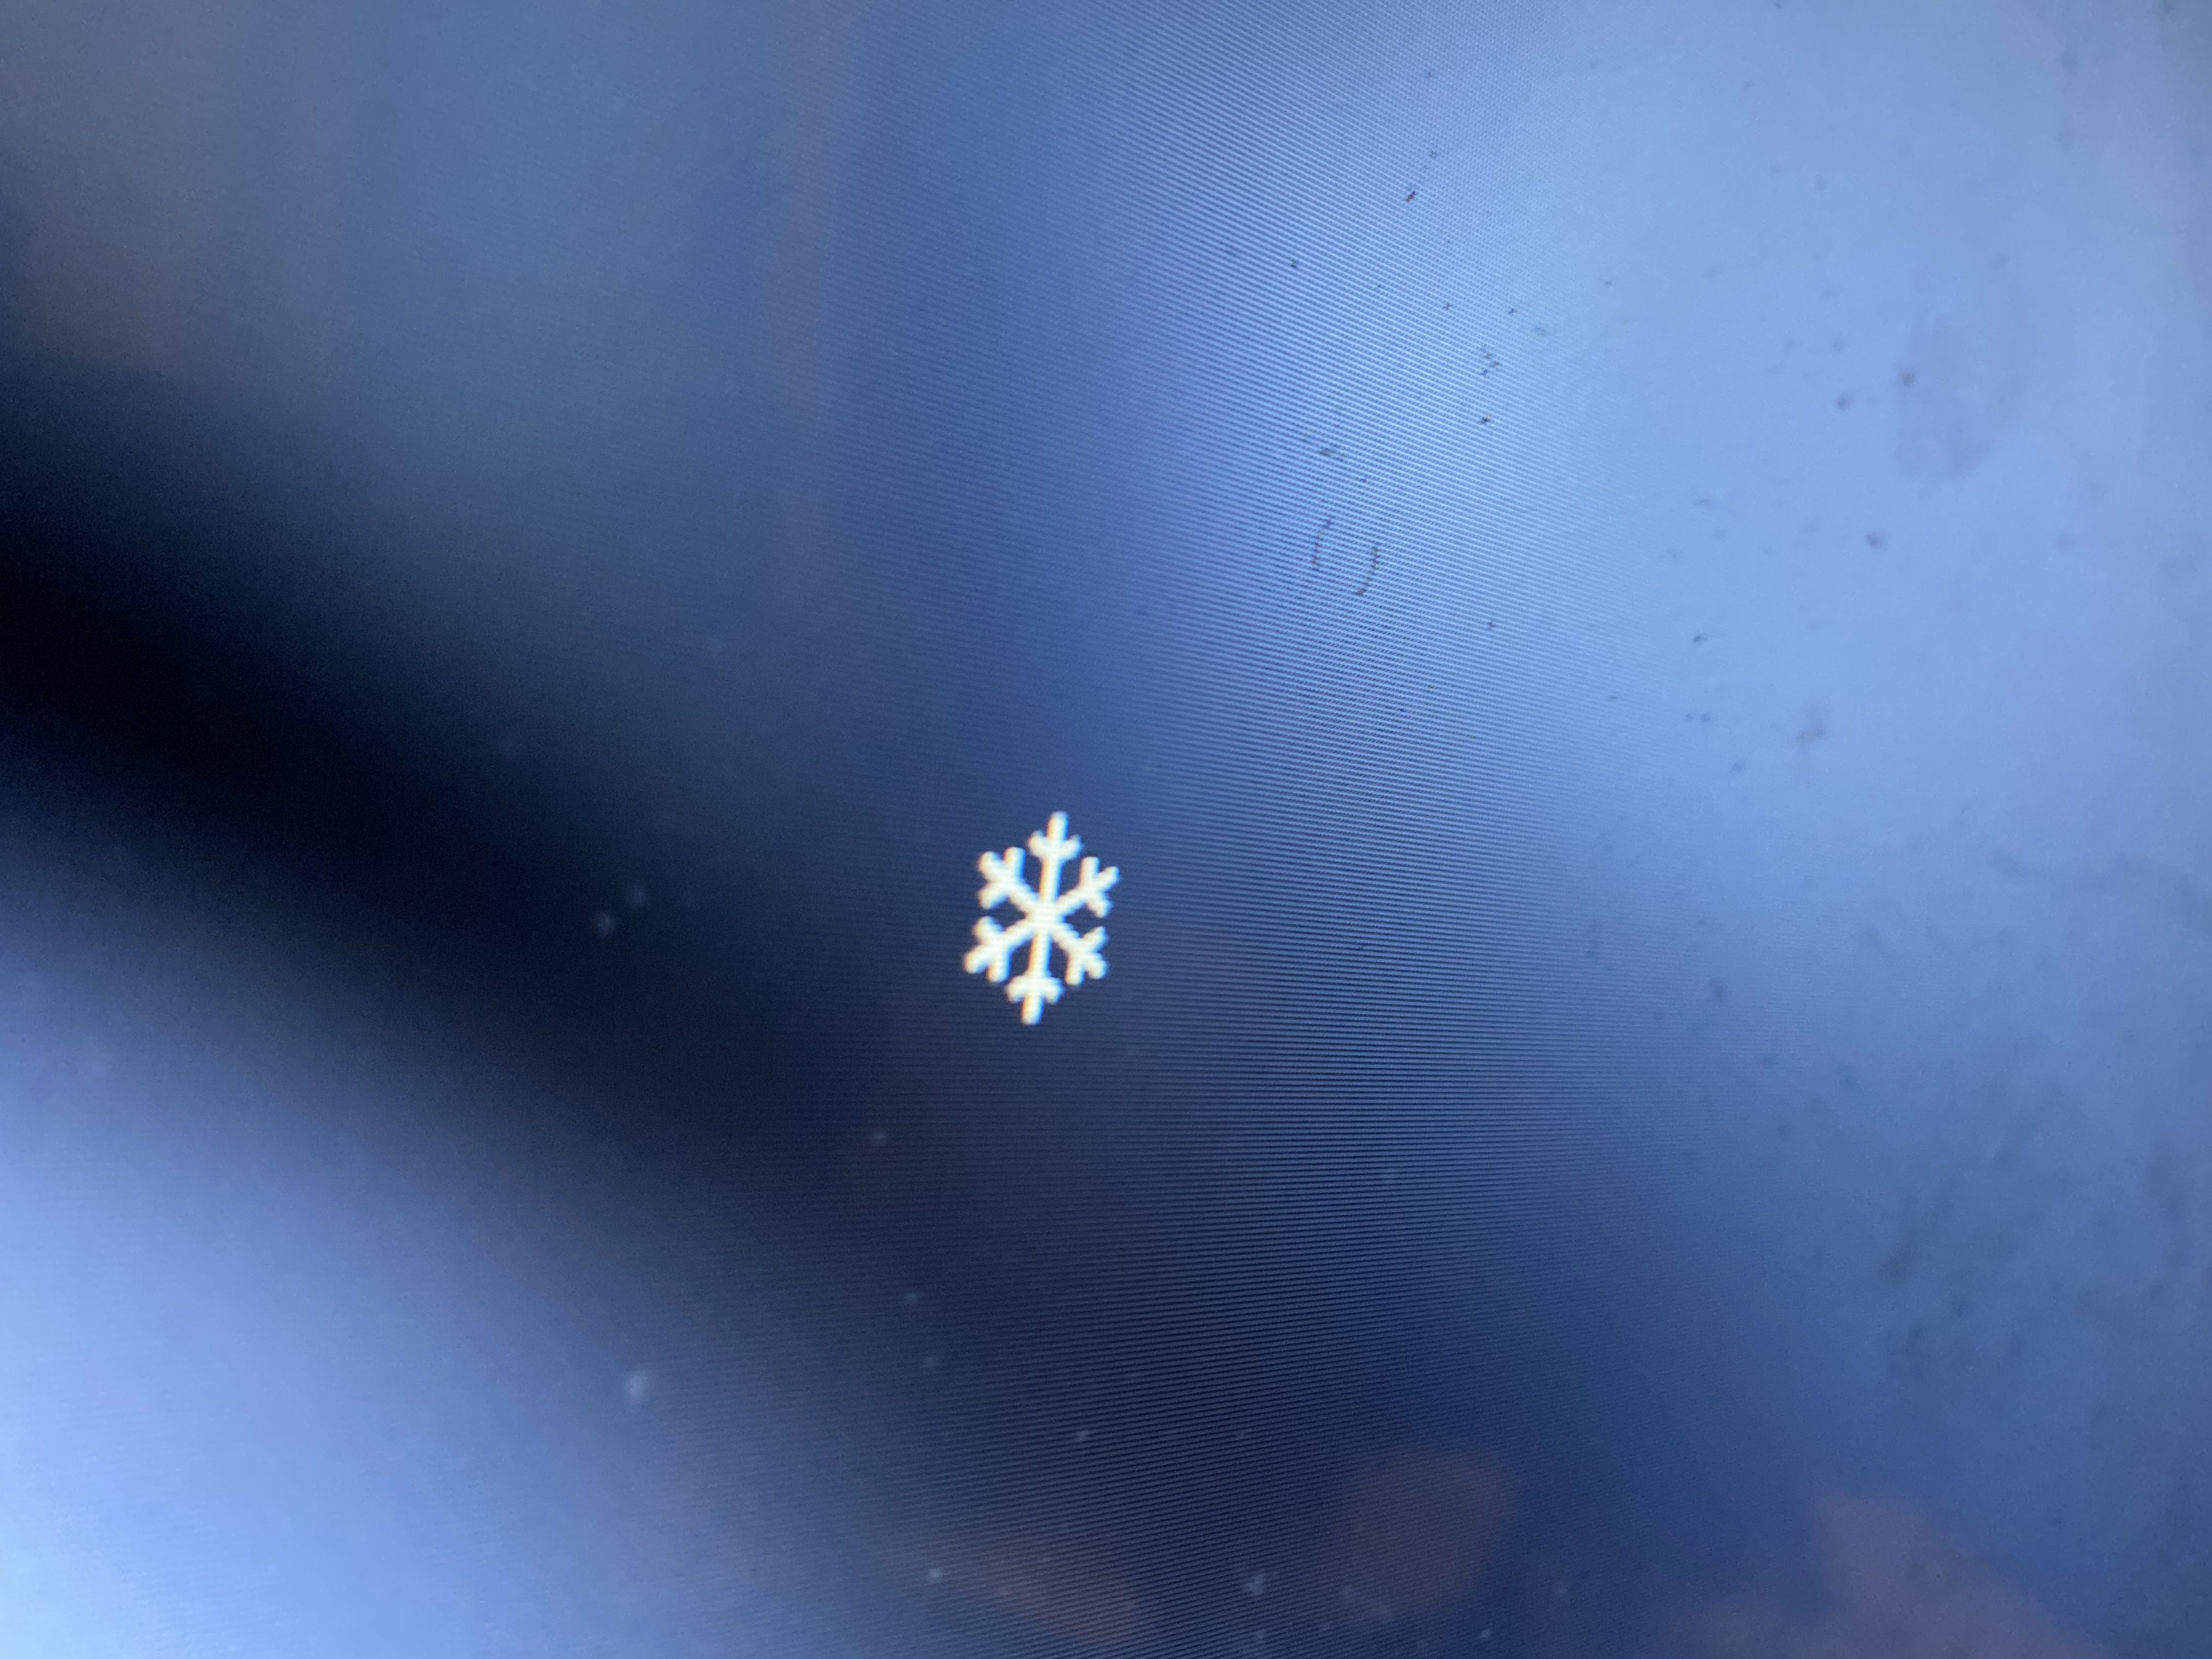EISSTERN: (941, 793, 1150, 1049)
